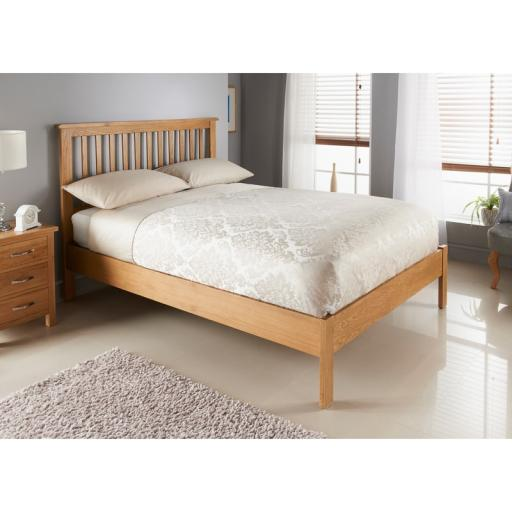bed: (55, 118, 448, 408)
